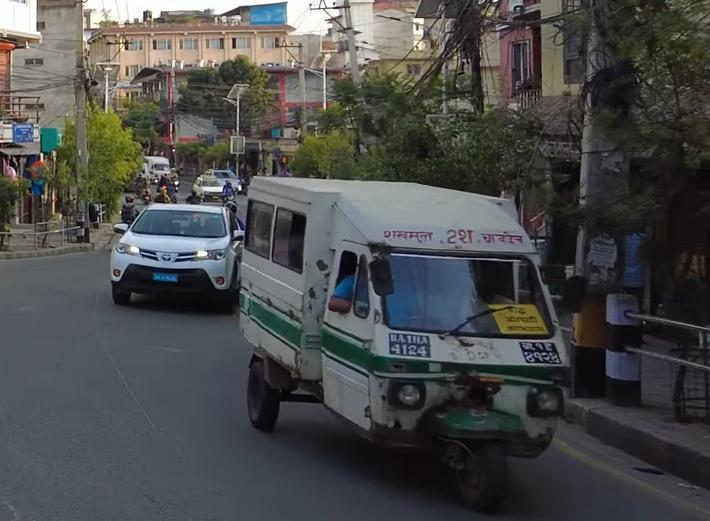car: (106, 198, 249, 310)
tempo: (238, 168, 581, 509), (142, 152, 172, 183)
